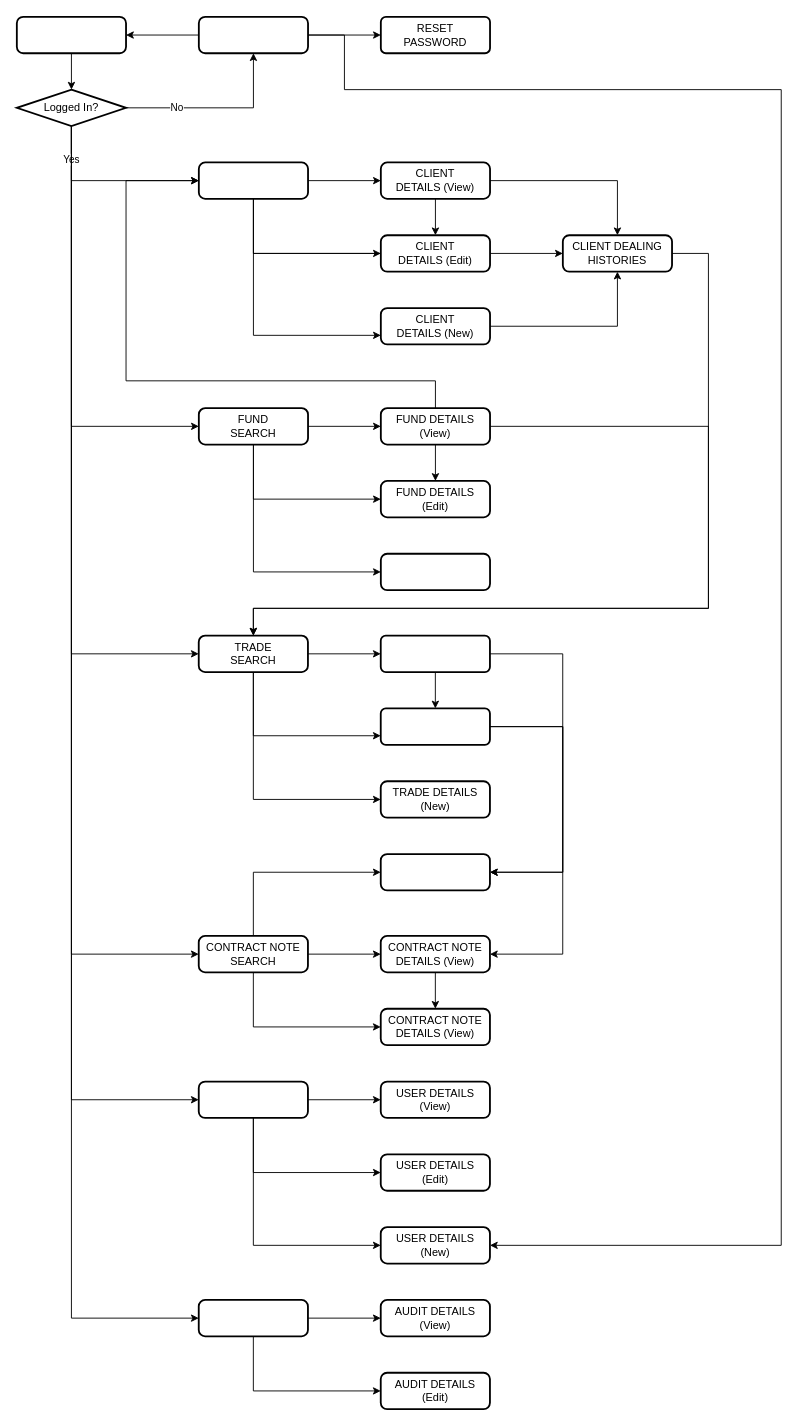
Some shapes in this 804 by 1425 pixel diagram are drawn without their labels. Each missing label, with the box of its shape:
AUDIT SEARCH: (197, 1299, 308, 1337)
CLIENT SEARCH: (197, 161, 308, 199)
CONTRACT NOTE DETAILS (New): (379, 853, 490, 891)
FUND DETAILS (New): (379, 552, 490, 591)
HOME: (15, 15, 126, 54)
LOGIN: (197, 15, 308, 54)
TRADE DETAILS (Edit): (379, 707, 490, 745)
TRADE DETAILS (View): (379, 634, 490, 672)
USER SEARCH: (197, 1080, 308, 1118)
